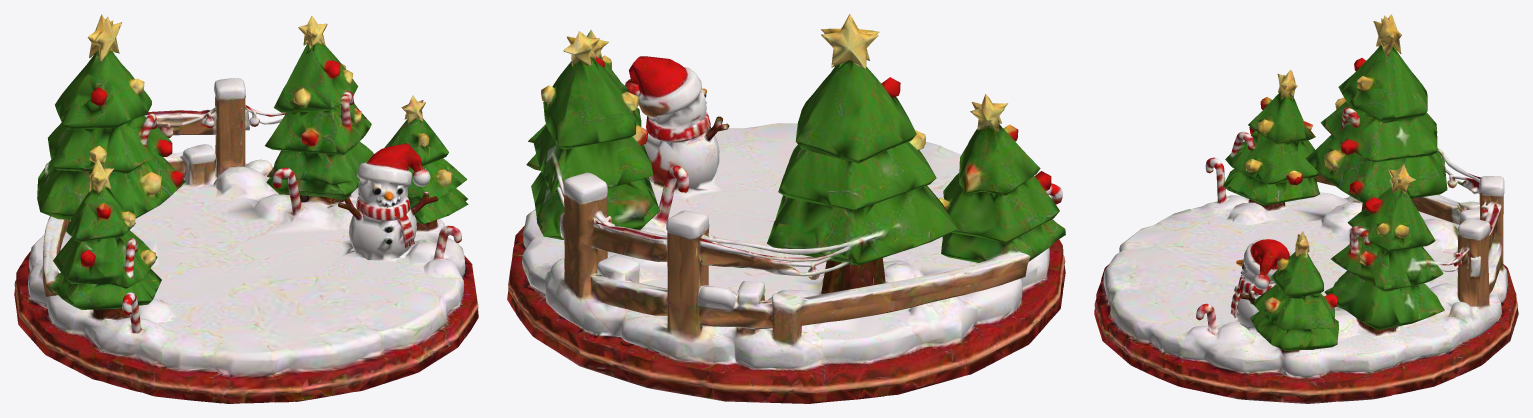
The model's file is xm_stage.glb.
3 views of the same model, side by side, from view 1: azimuth 30°, elevation 25°; view 2: azimuth 150°, elevation 25°; view 3: azimuth 270°, elevation 25° (orthographic). The views are drawn at different scales.
Bounding box in the file's own units: 0.0768 × 0.05 × 0.0749.
Materials: 1 (1 with a texture image).
